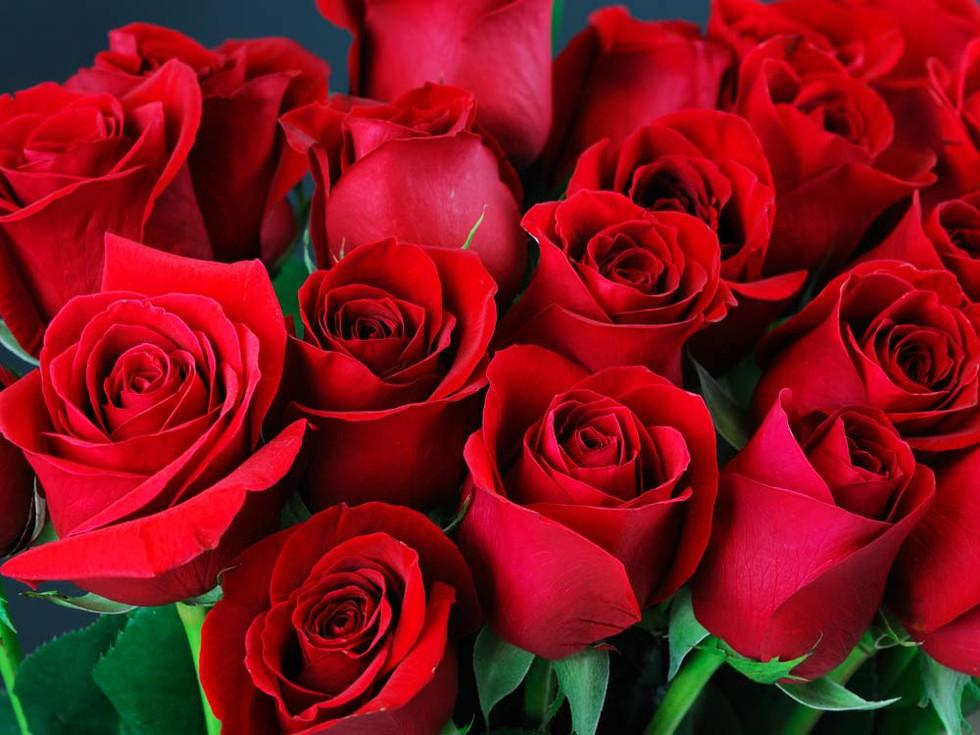rose: (1, 1, 977, 732)
